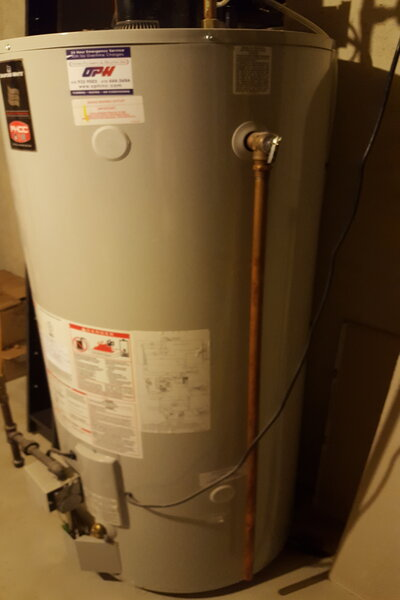valve: (246, 129, 283, 184)
